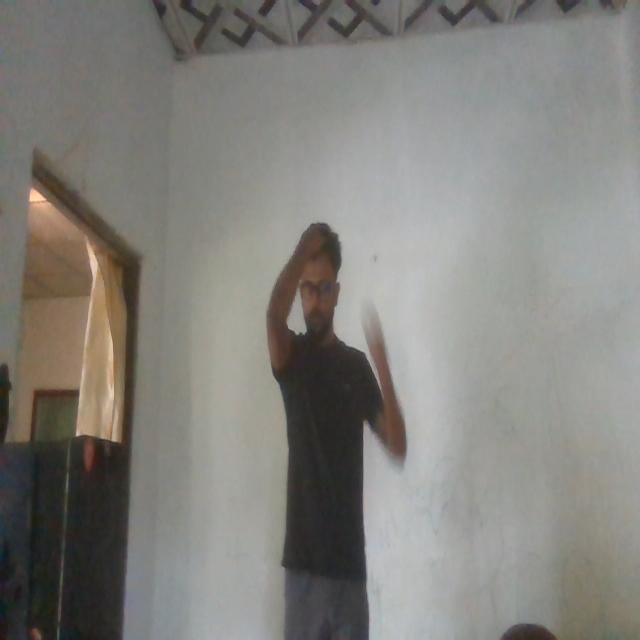Person: (264, 206, 396, 640)
